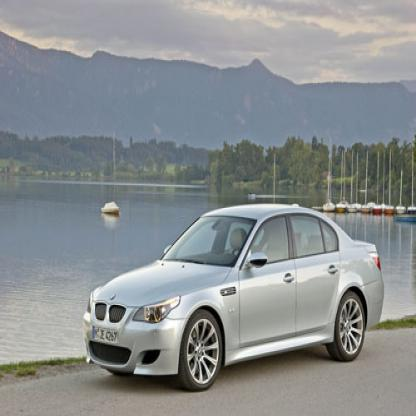Vehicle: (84, 204, 386, 393)
